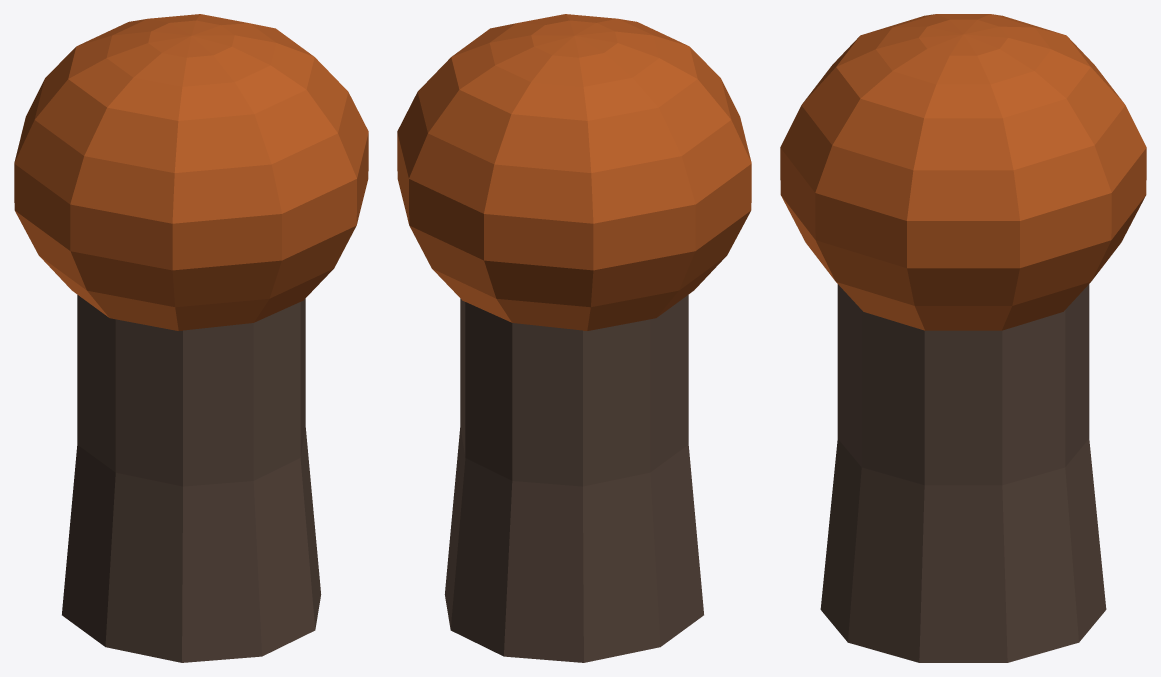
File: Leccinum_little.fbx
3 renders of one model, left to right at view 1: azimuth 30°, elevation 25°; view 2: azimuth 150°, elevation 25°; view 3: azimuth 270°, elevation 25°, orthographic.
Parts seen in each view (by area): view 1: Sphere; view 2: Sphere; view 3: Sphere.
Part boxes in pixels (x1,y1,x2,y2): Sphere: (14,14,368,662); Sphere: (397,14,751,662); Sphere: (780,14,1146,662).
Bounding box in the file's own units: 36.39 × 66.27 × 38.26.
